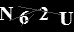2: (38, 6, 49, 21)
6: (18, 10, 29, 25)
N: (1, 6, 13, 21)
U: (57, 11, 74, 26)
